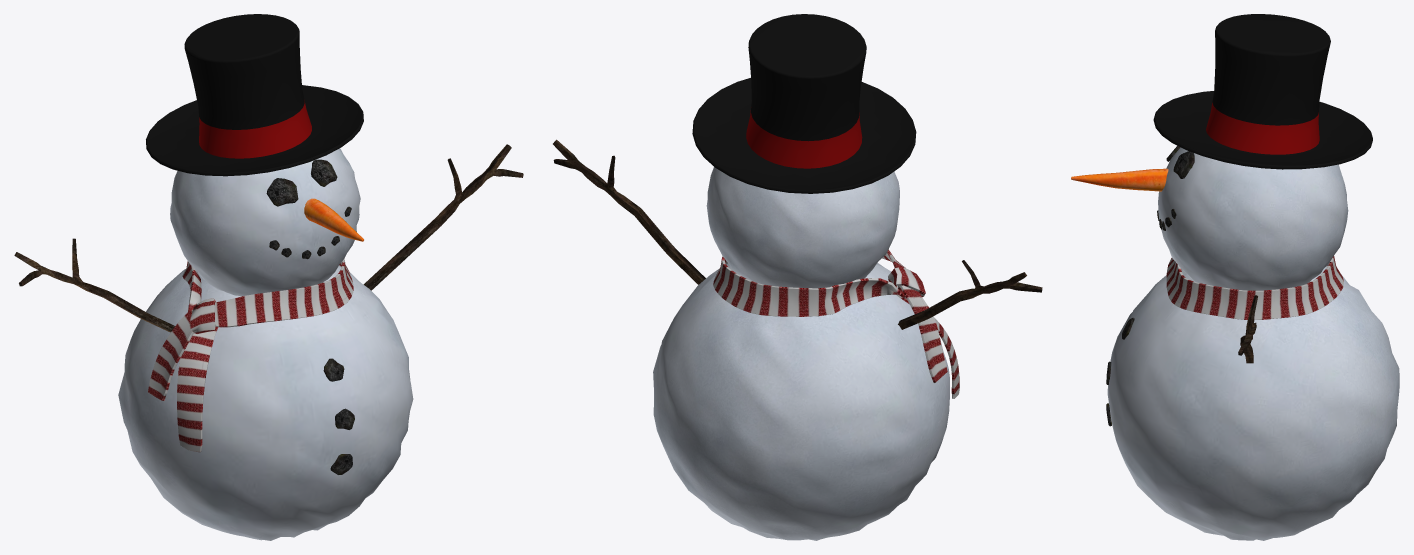
File: realsnowman.glb
3 views of the same model, side by side, from view 1: azimuth 30°, elevation 25°; view 2: azimuth 150°, elevation 25°; view 3: azimuth 270°, elevation 25° (orthographic).
Bounding box in the file's own units: 1.52 × 1.45 × 0.8762.
Materials: 1 (1 with a texture image).
